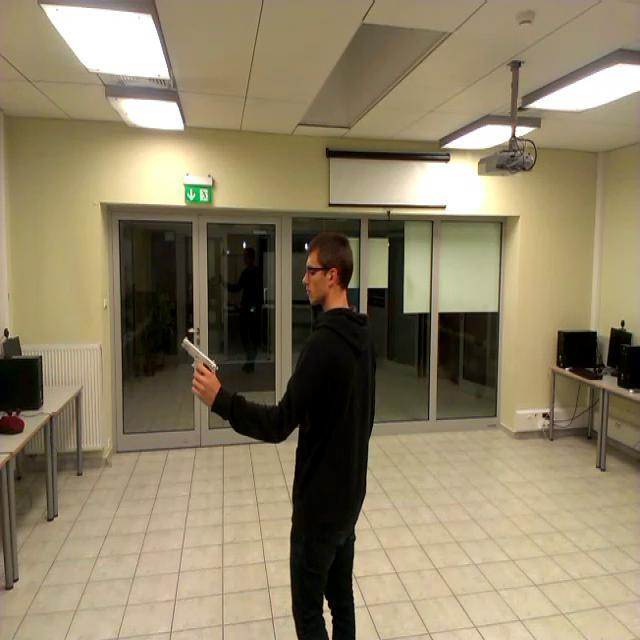Gun: (182, 336, 220, 388)
